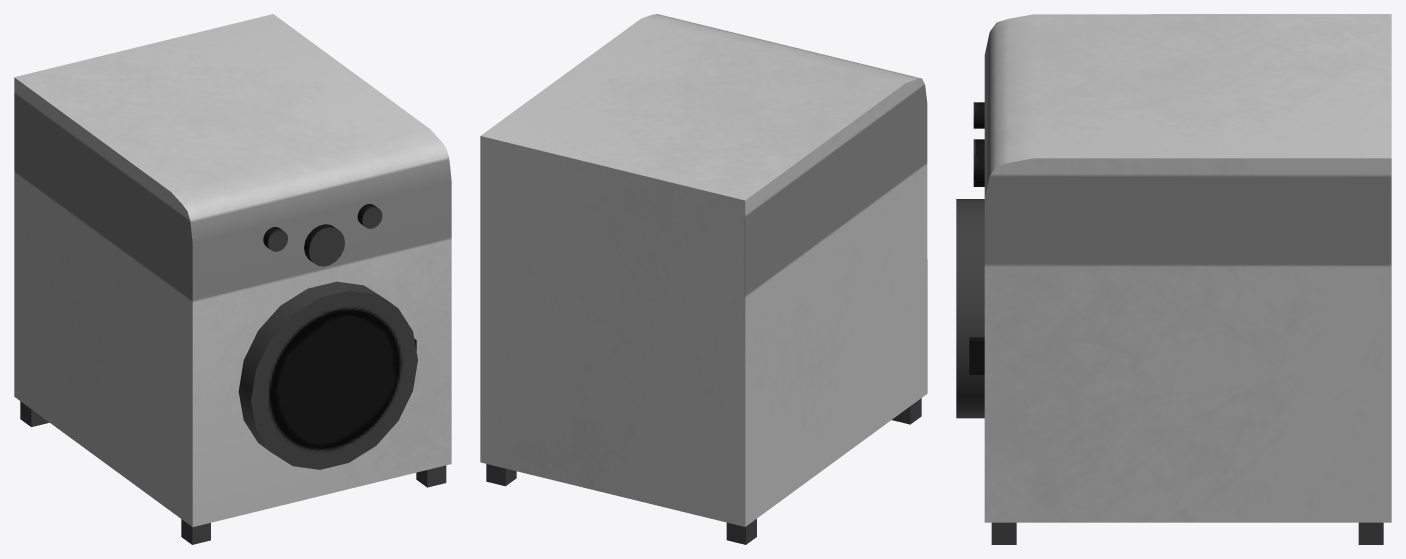
3 views of the same model, side by side, from view 1: azimuth 30°, elevation 25°; view 2: azimuth 150°, elevation 25°; view 3: azimuth 270°, elevation 25° (orthographic). The views are drawn at different scales.
Parts seen in each view (by area): view 1: polySurface4; view 2: polySurface4; view 3: polySurface4.
Boxes of the visible parts, x1,y1,x2,y2 form: polySurface4: [14, 14, 451, 544]; polySurface4: [480, 14, 927, 544]; polySurface4: [956, 14, 1391, 544].
Bounding box in the file's own units: 4.77 × 5.98 × 6.07.
Materials: 1 (1 with a texture image).
